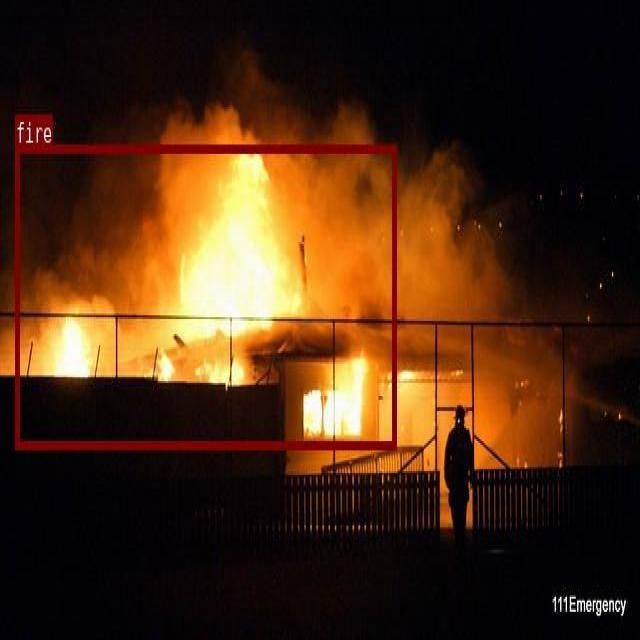fire: (14, 143, 396, 447)
